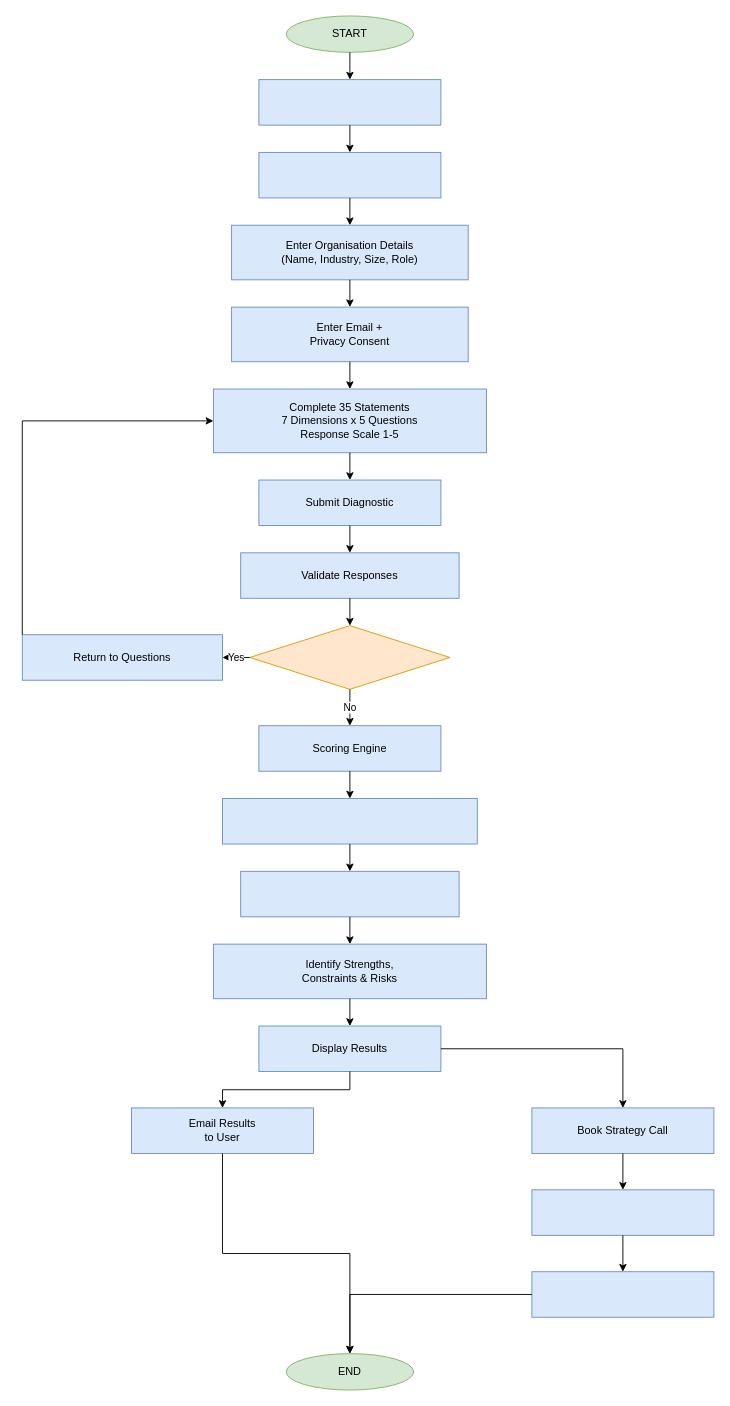
The diagram is 730 pixels wide and 1406 high, and some of its shapes have lost their labels. Each missing label, with the centre of its shape:
Booking Service (Calendly etc.): the point at 622,1212
Calculate Dimension Scores: the point at 349,821
Calculate Overall Score: the point at 349,893
Landing Page: the point at 349,102
Missing Answers?: the point at 349,657
Notify Advisor: the point at 622,1294
Start Diagnostic: the point at 349,175
